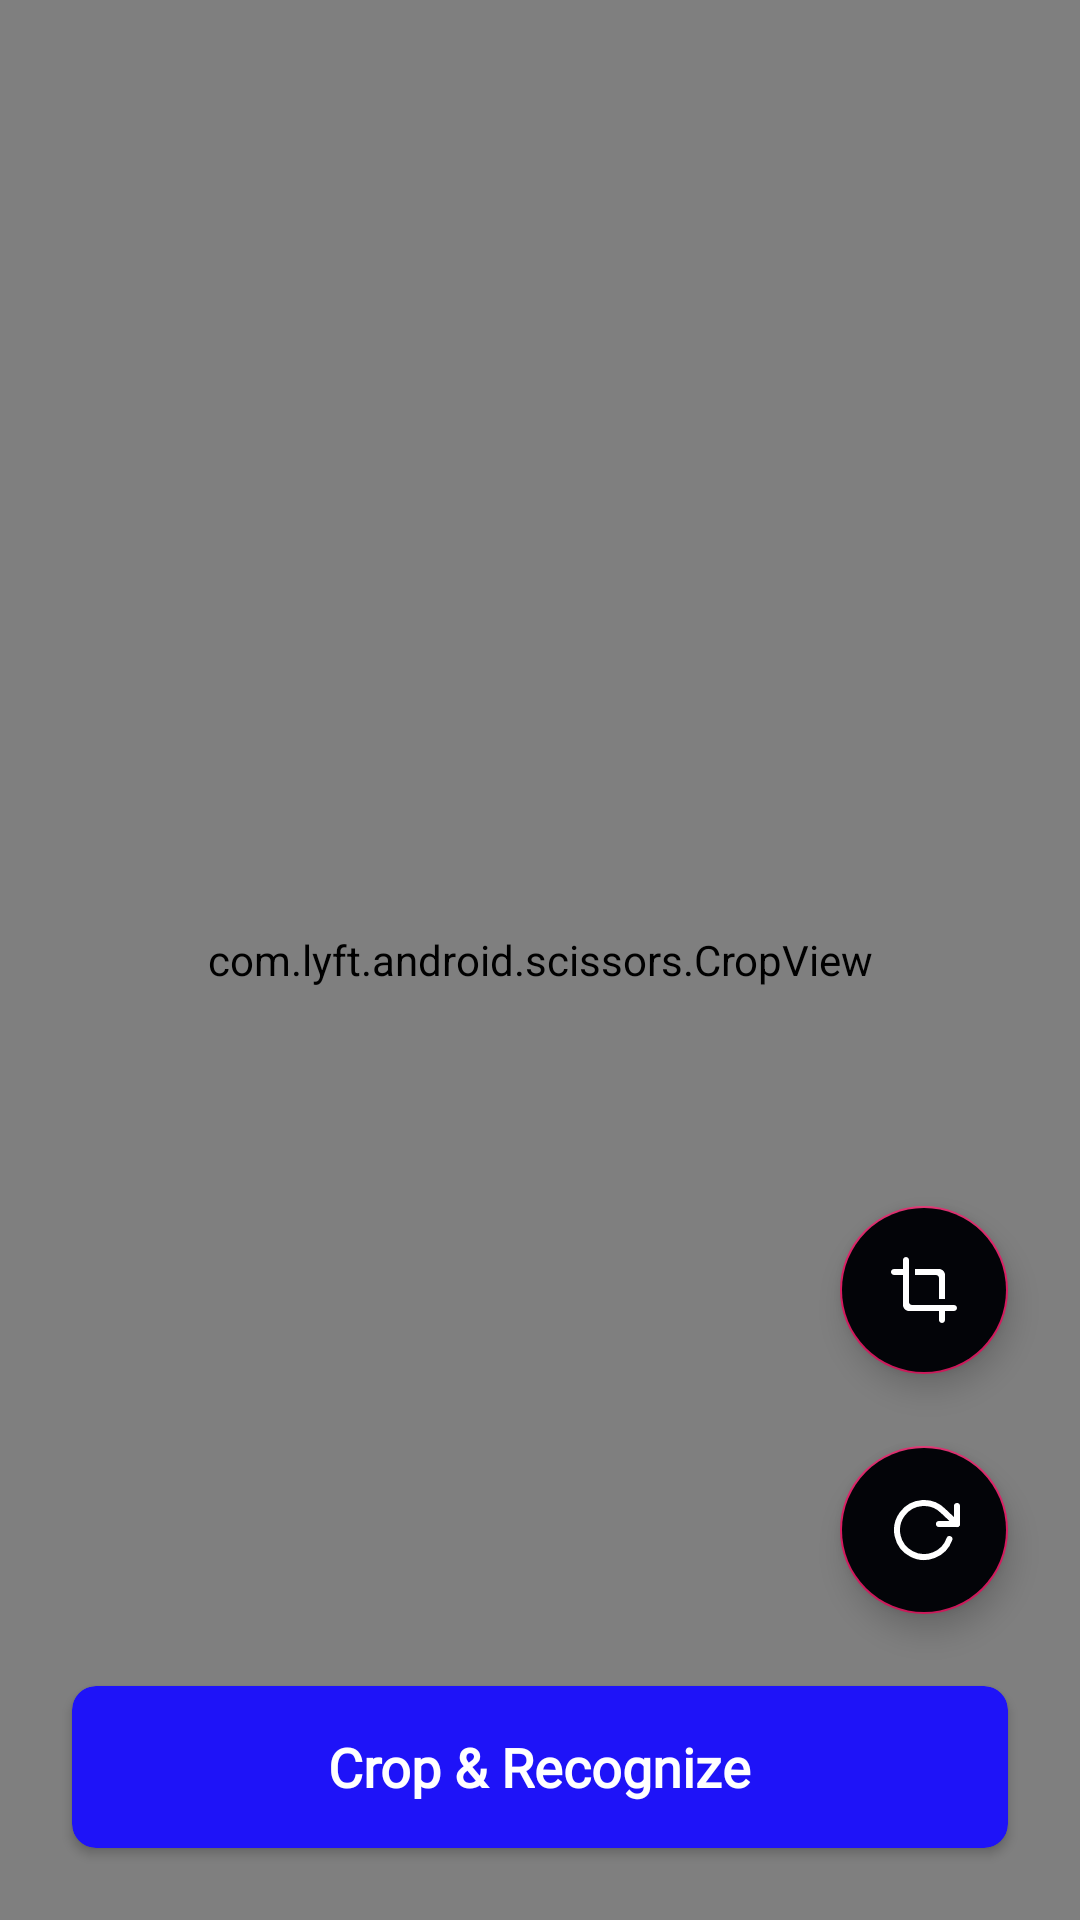

Screen size 1080x1920. Icon name, then its center in pixels as point (x, y):
rotate right: point (924, 1530)
